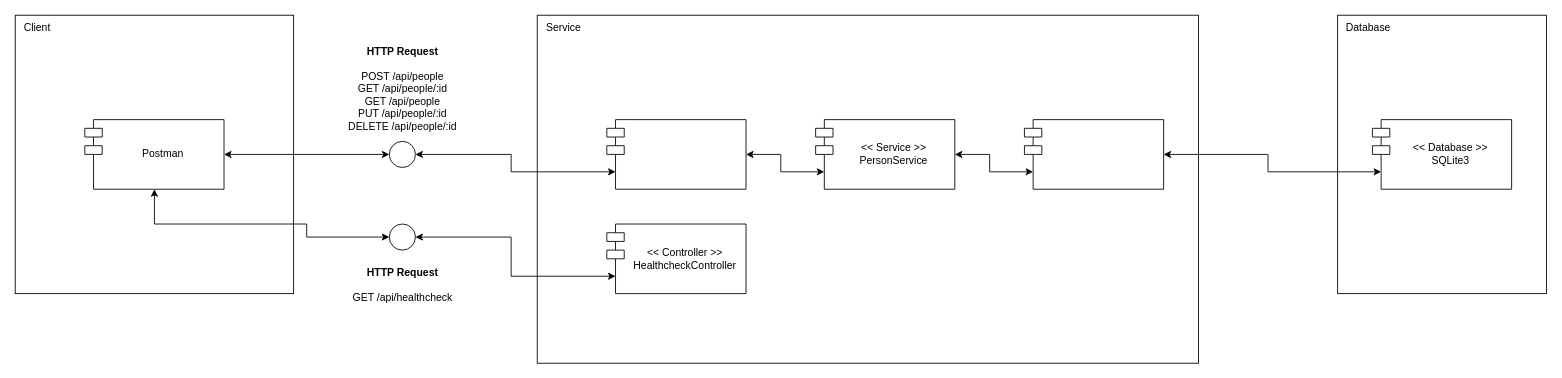
Some shapes in this 1562 by 378 pixel diagram are drawn without their labels. Here are the shapes that lost their labels. From the top down, the box of each, then its label:
(606, 119, 746, 189): << Controller >> PersonController
(1024, 119, 1164, 189): << DAO >> PersonDao
